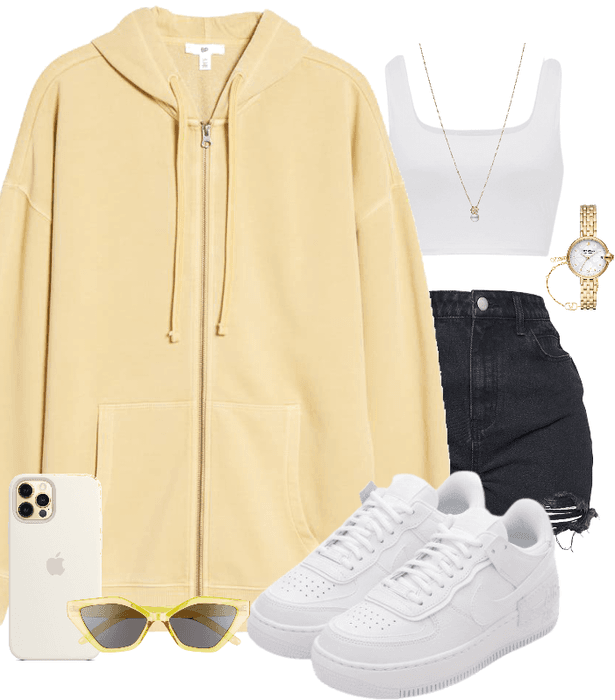аксесуары: (62, 593, 249, 654), (544, 203, 611, 311)
кроссовки: (244, 470, 559, 697)
майка: (385, 58, 567, 252)
толстовка: (0, 4, 420, 597)
юбка: (428, 288, 596, 532)
